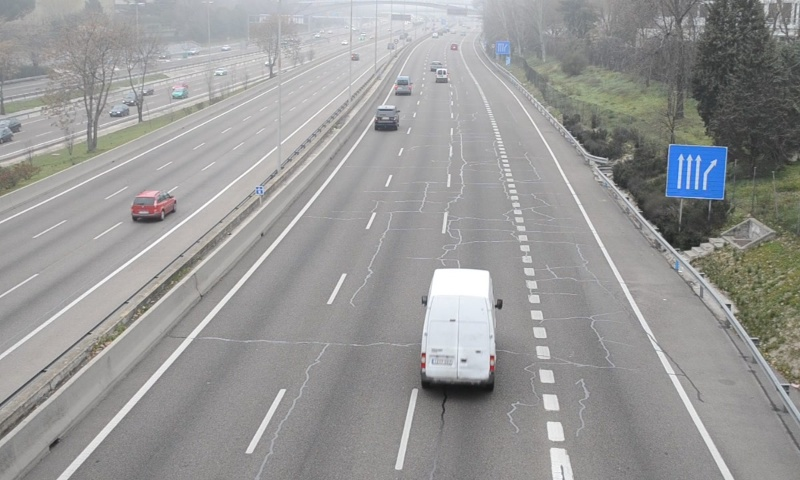car: (374, 105, 398, 128)
van: (420, 269, 496, 388), (395, 76, 410, 96)
